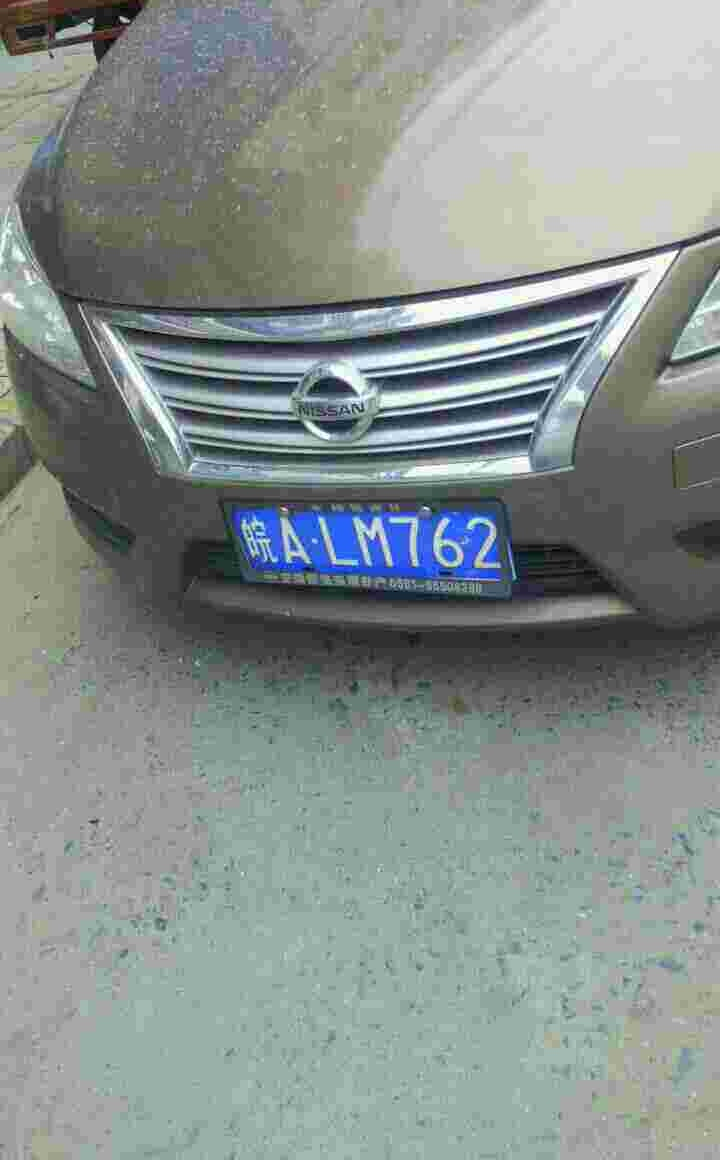license_plate: (227, 500, 515, 587)
